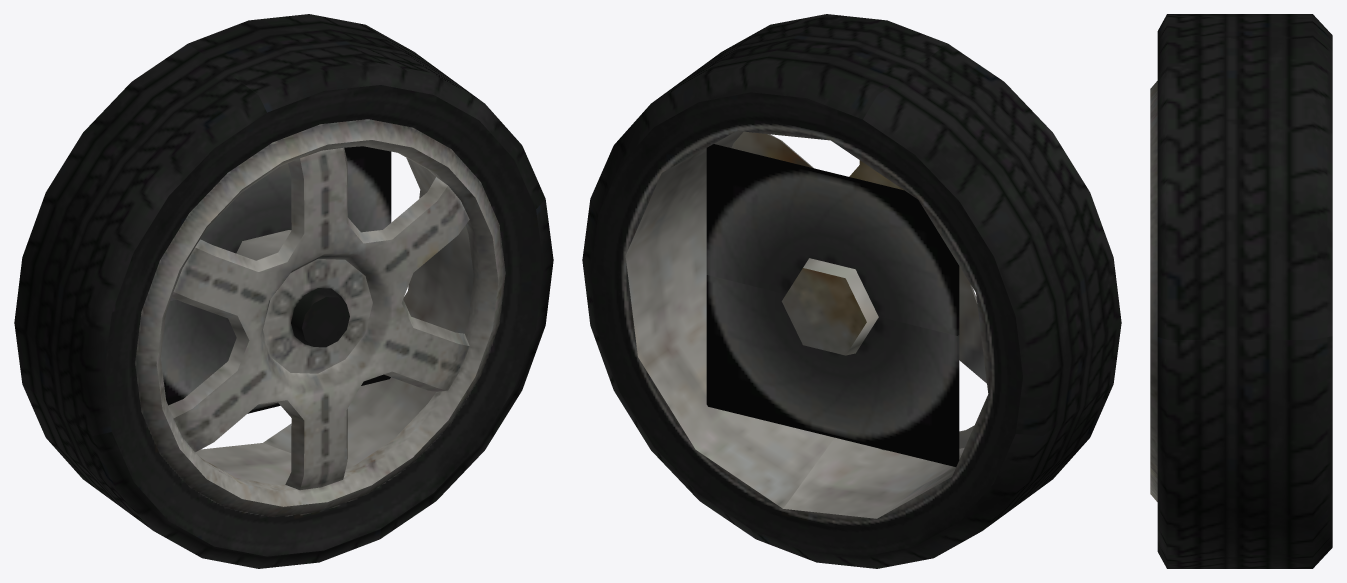
The model's file is V_A_ExoticMuscle_Wheel_7_SkeletalMesh3_SkeletalMesh_1.psk.glb.
3 renders of one model, left to right at view 1: azimuth 30°, elevation 25°; view 2: azimuth 150°, elevation 25°; view 3: azimuth 270°, elevation 25°, orthographic. The views are drawn at different scales.
Size of the model in its own units: 72.3 by 72.3 by 23.69.
1 material, 1 textured.
